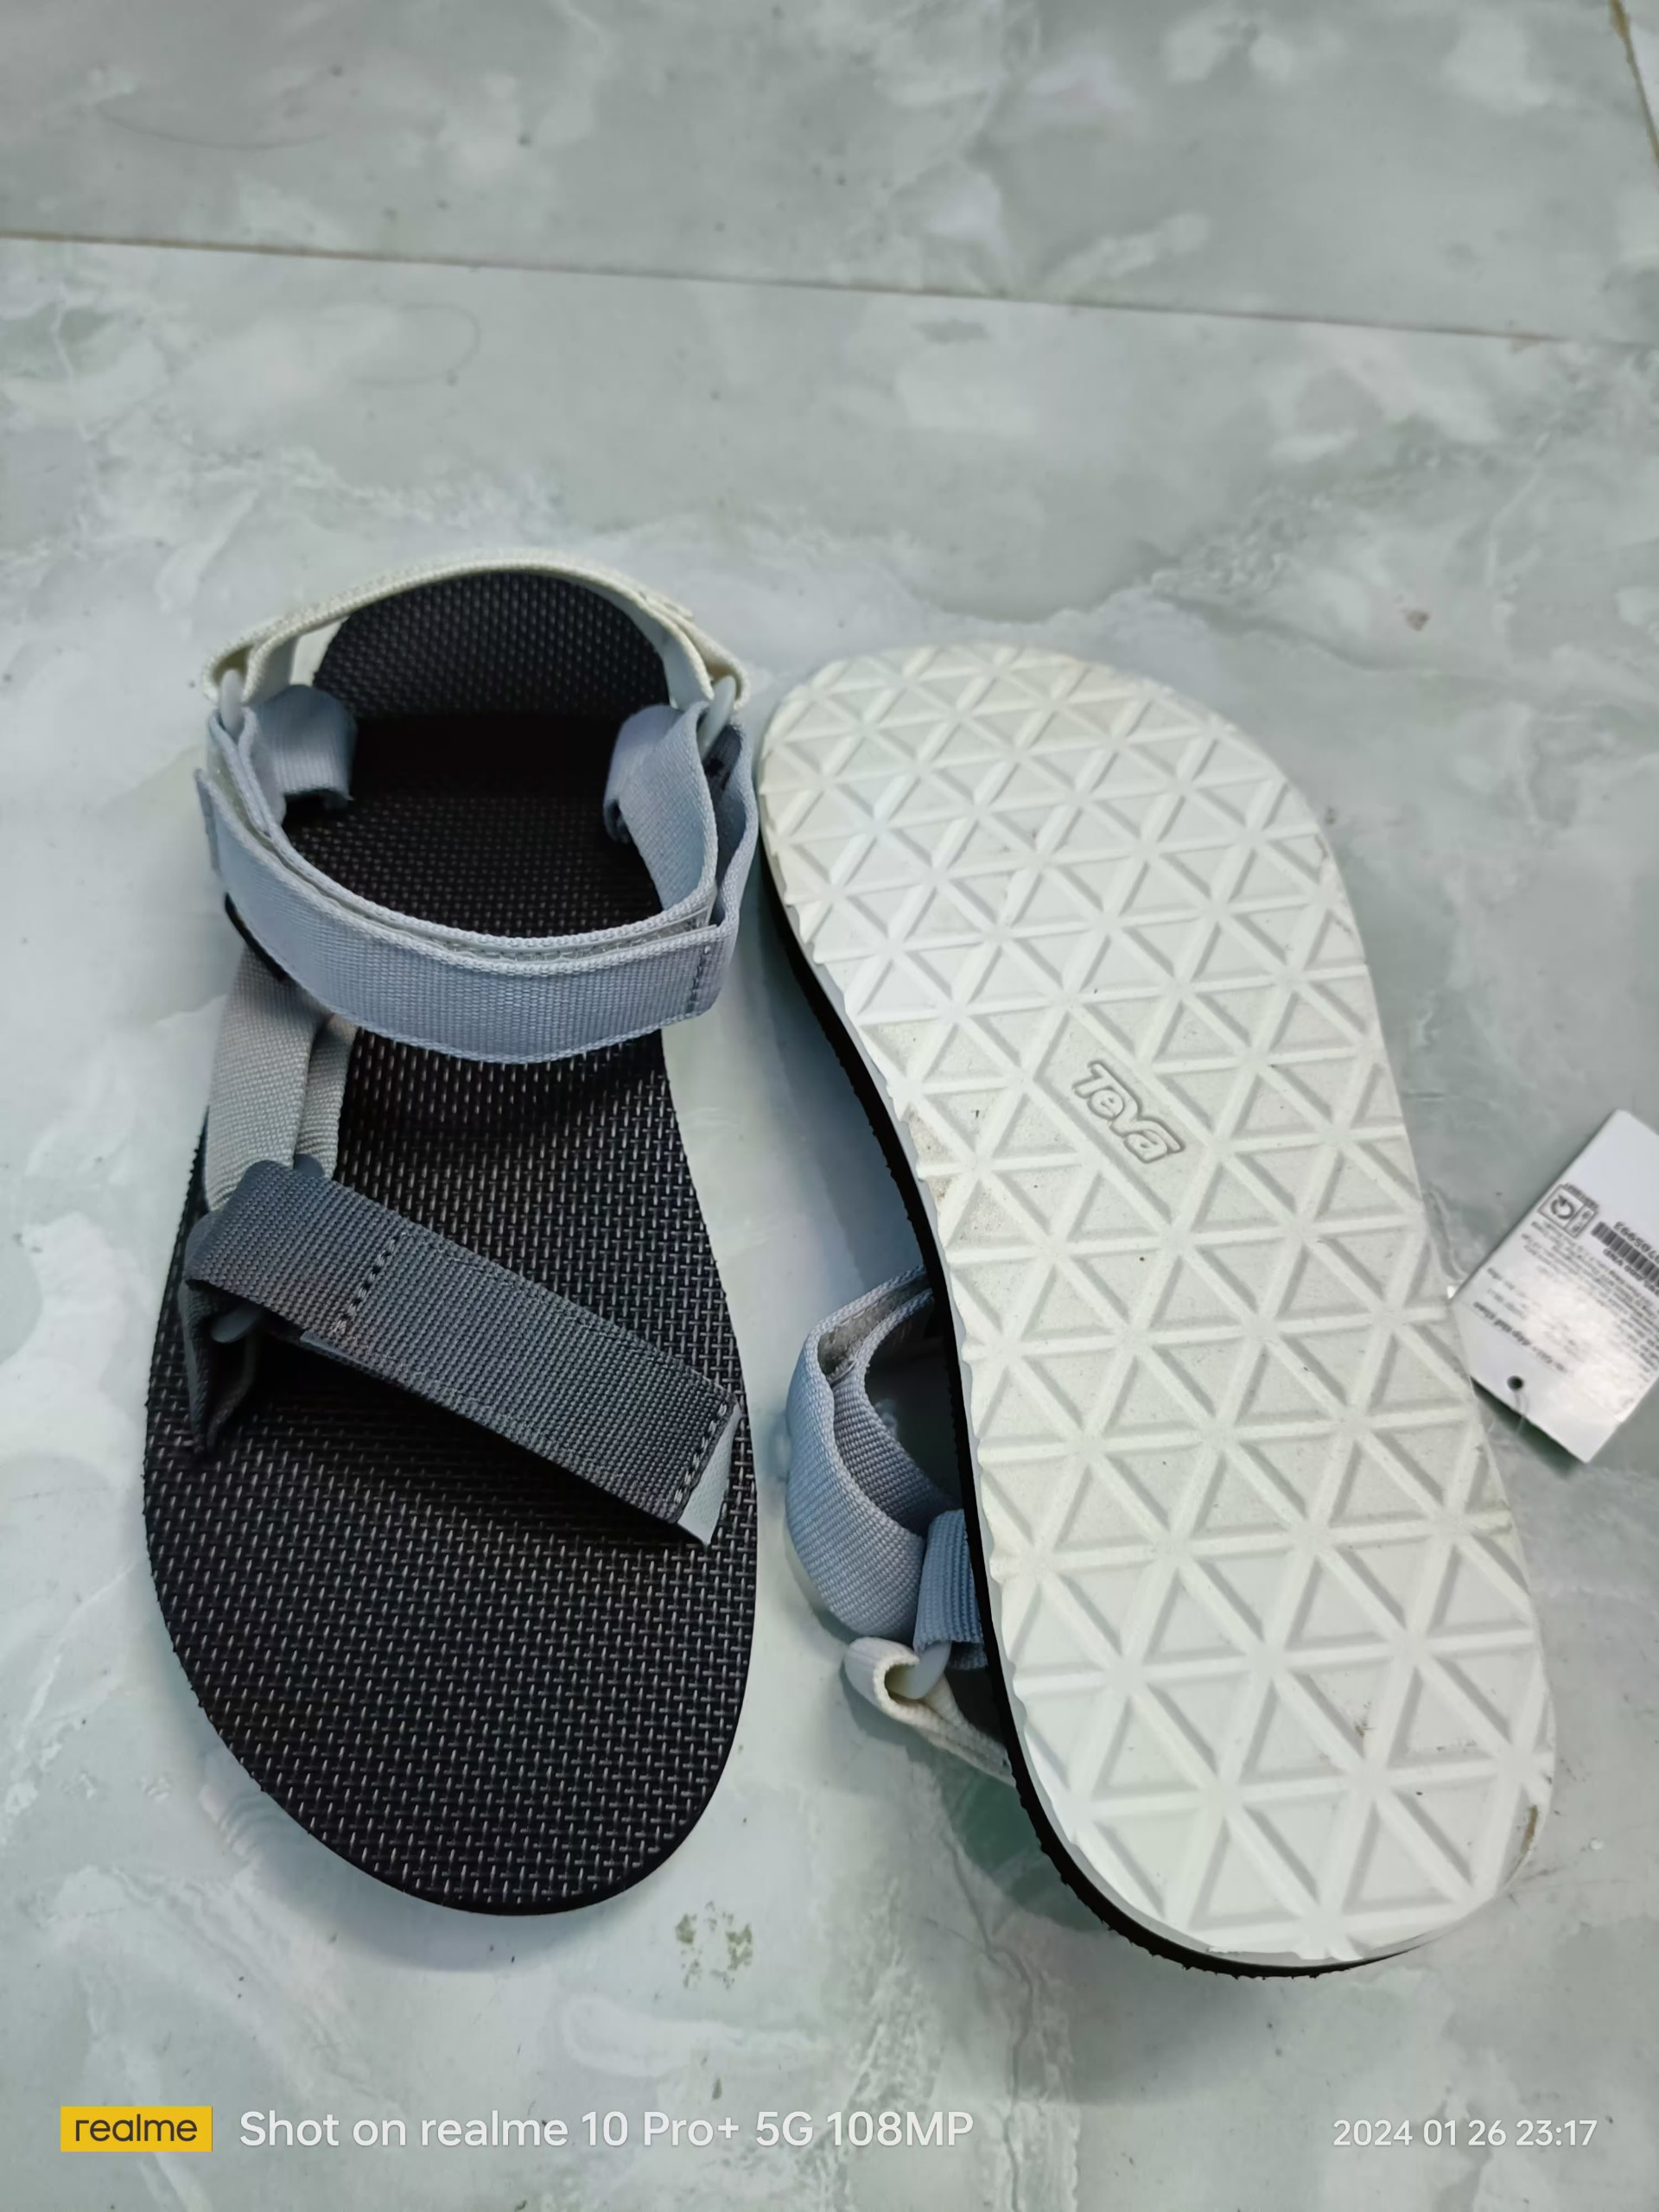sandals: (760, 639, 1568, 1986), (136, 554, 770, 1923)
